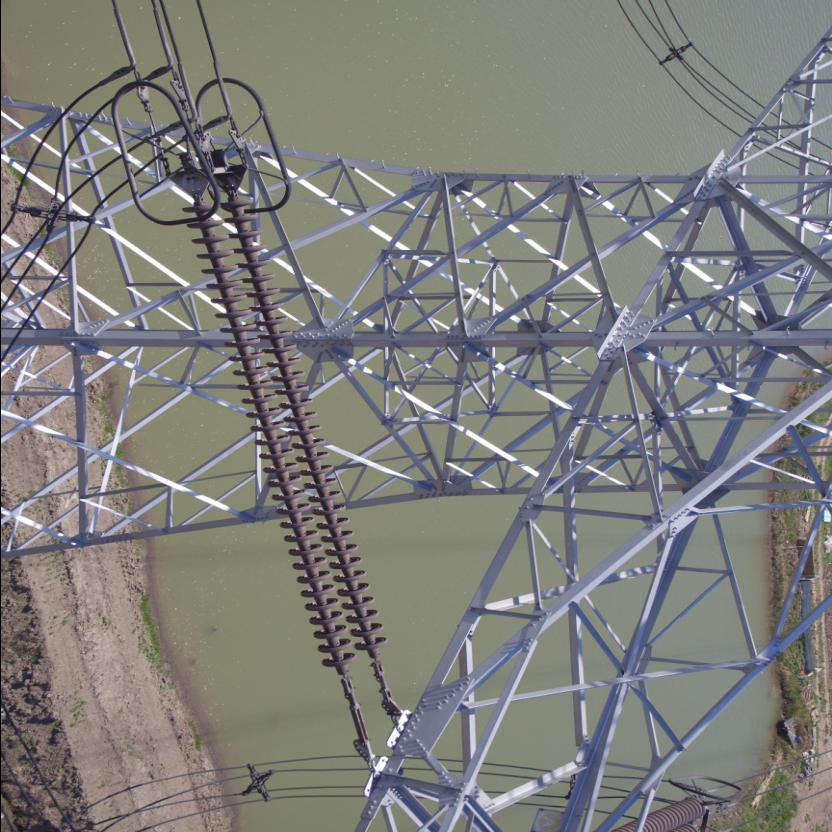insulator: (177, 186, 391, 694)
